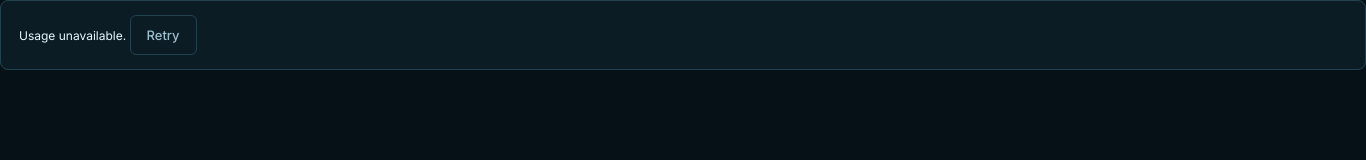
Test case: shows completed and reserved usage separately, with a recoverable error
Click the button "Retry". click: (163, 35)
box: [130, 15, 196, 55]
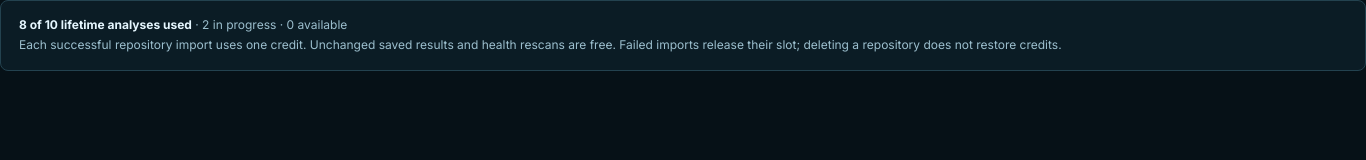
Check: the text "8 of 10 lifetime analyses used" is shown, box [19, 17, 192, 32]
Check: the text "· 2 in progress · 0 available" is shown, box [192, 17, 347, 32]
